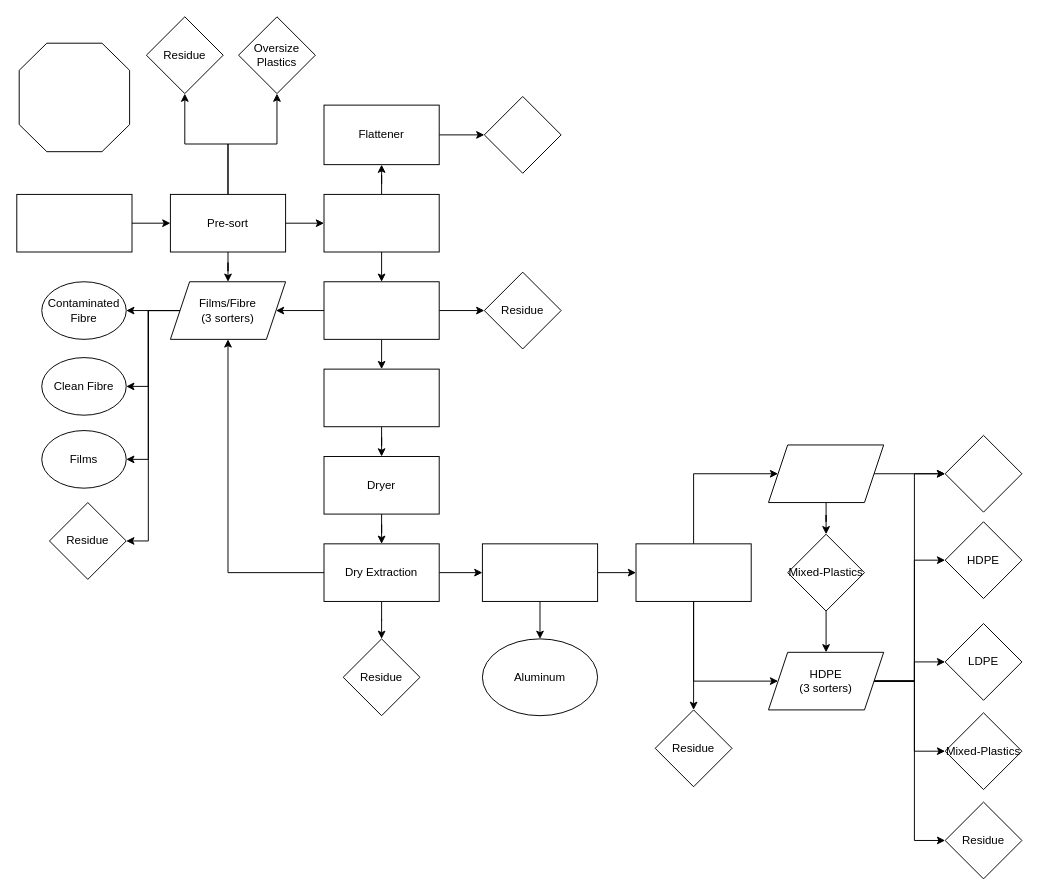
Image size: 1039x896. Some labels were removed from this diagram. The box of each missing label's shape, as (x1, y1, x2, y2) in pixels:
Eddy Current Seperator: (481, 543, 598, 601)
Ferrous: (483, 96, 561, 173)
Infeed Conveyor: (16, 193, 132, 252)
Magnet: (323, 193, 439, 252)
Optical Sortor: (635, 543, 751, 601)
Perforator: (323, 368, 439, 427)
PET: (944, 434, 1022, 512)
PET (1 sorter): (768, 444, 884, 503)
Screen: (323, 281, 439, 339)
Tip Floor: (18, 42, 130, 152)
